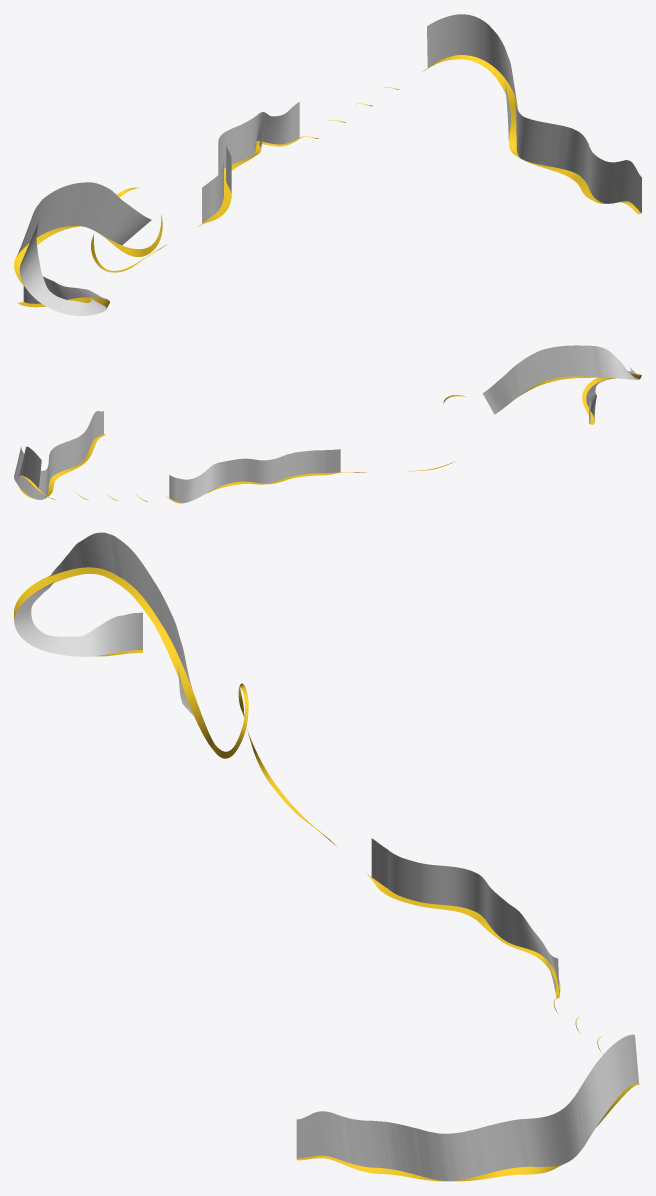
The model's file is SkyRoad03.gltf.
The picture shows the model from 3 angles, top to bottom: view 1: azimuth 30°, elevation 25°; view 2: azimuth 150°, elevation 25°; view 3: azimuth 270°, elevation 25°; orthographic projection. The views are drawn at different scales.
Parts seen in each view (by area): view 1: SkyRoadWall03, SkyRoad03; view 2: SkyRoadWall03, SkyRoad03; view 3: SkyRoadWall03, SkyRoad03.
Part boxes in pixels (left/top/right/bottom): SkyRoadWall03: left=17, top=14, right=641, bottom=315; SkyRoad03: left=14, top=55, right=641, bottom=308; SkyRoadWall03: left=14, top=345, right=639, bottom=502; SkyRoad03: left=18, top=374, right=641, bottom=503; SkyRoadWall03: left=14, top=532, right=638, bottom=1181; SkyRoad03: left=14, top=567, right=639, bottom=1181.
Bounding box in the file's own units: 427 × 145 × 291.
